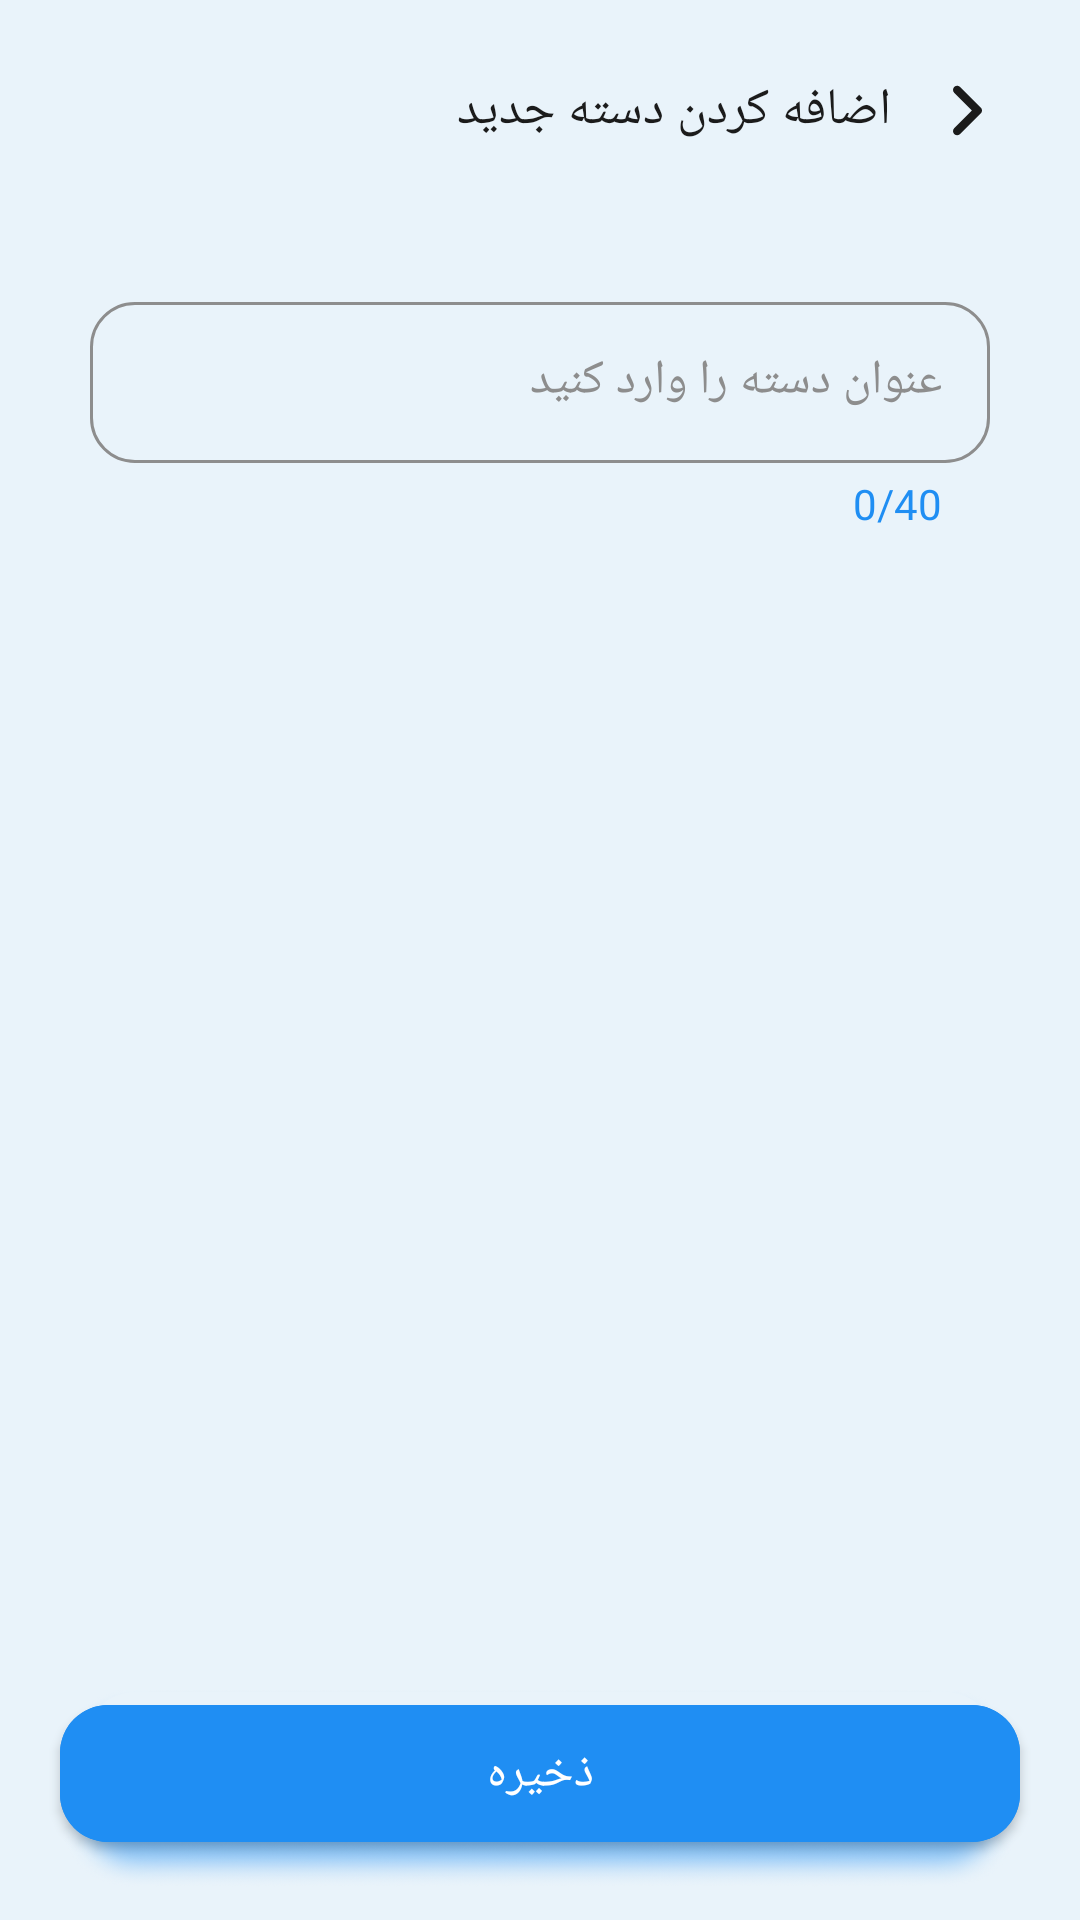

Screen size 1080 x 1920. Icon name, then its center in pixels as point (x, y):
بازگشت: point (967, 110)
